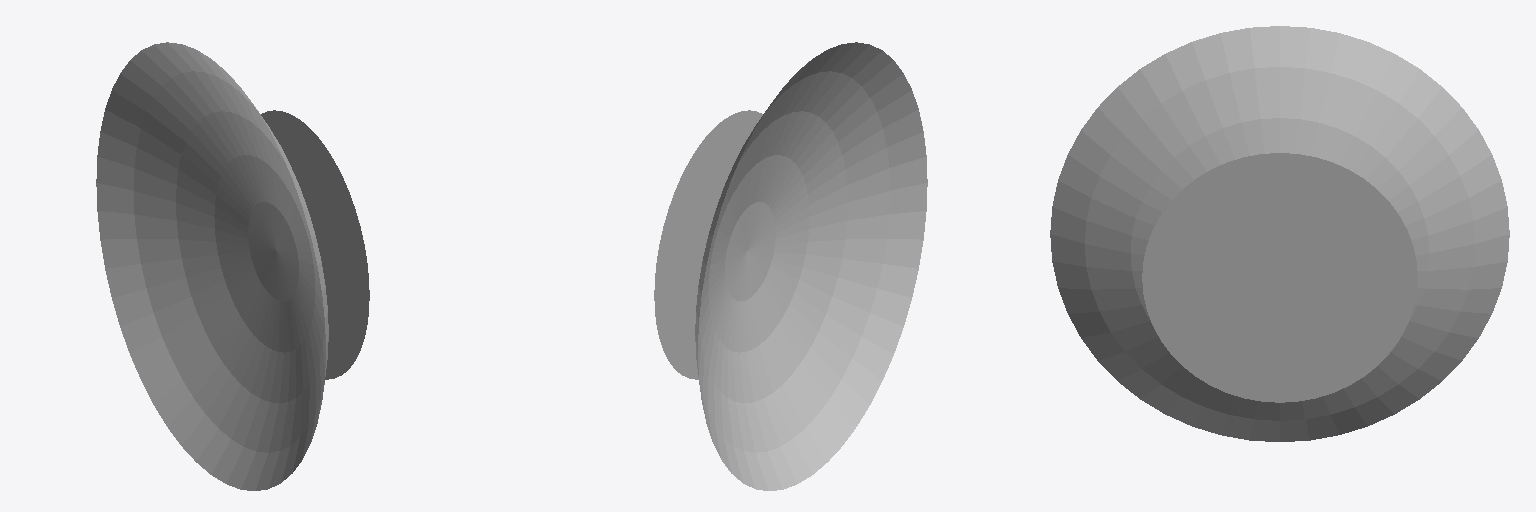
Rendered from disks__5.obj.
3 views of the same model, side by side, from view 1: azimuth 30°, elevation 25°; view 2: azimuth 150°, elevation 25°; view 3: azimuth 270°, elevation 25° (orthographic).
Visible parts, largest first — view 1: grp5; view 2: grp5; view 3: grp5.
Boxes of the visible parts, x1,y1,x2,y2 form: grp5: [96, 42, 369, 490]; grp5: [654, 42, 927, 490]; grp5: [1050, 26, 1509, 441].
Bounding box in the file's own units: 1.12 × 5 × 5.